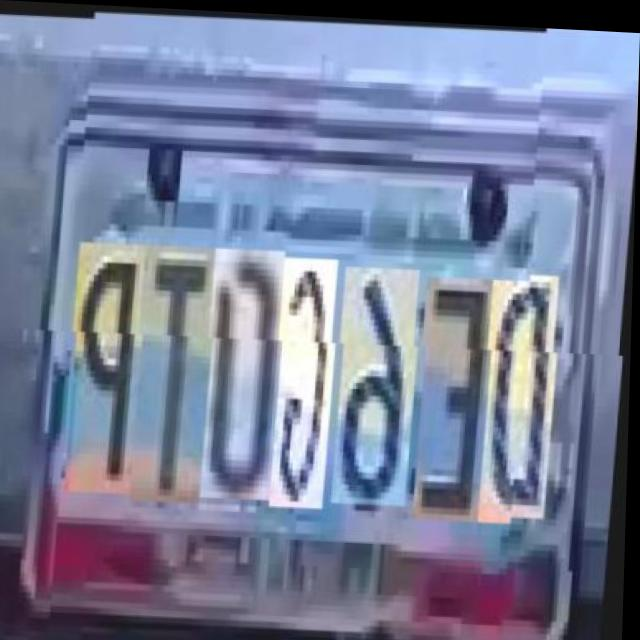0: (204, 244, 290, 497)
6: (334, 262, 424, 503)
d: (483, 274, 564, 520)
e: (417, 271, 498, 517)
g: (273, 254, 344, 506)
p: (68, 240, 150, 493)
t: (133, 242, 220, 501)
